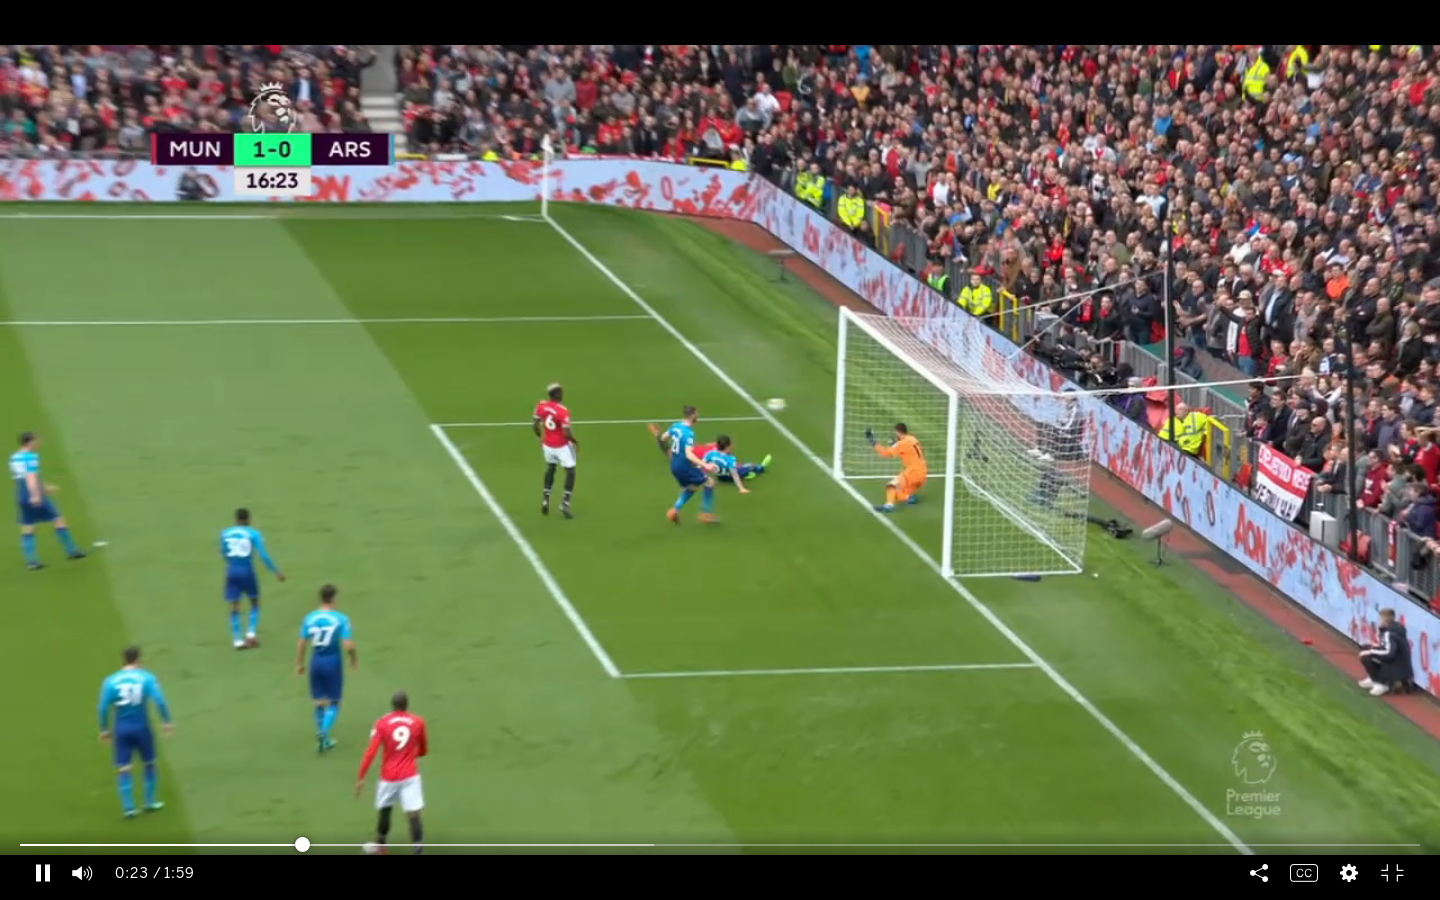soccer player: (85, 637, 175, 828), (356, 680, 438, 851), (212, 506, 298, 657), (2, 431, 90, 577), (290, 583, 364, 754), (528, 379, 588, 522), (862, 414, 930, 514), (661, 402, 707, 529), (695, 434, 792, 485)
soccerball: (761, 391, 792, 417)
